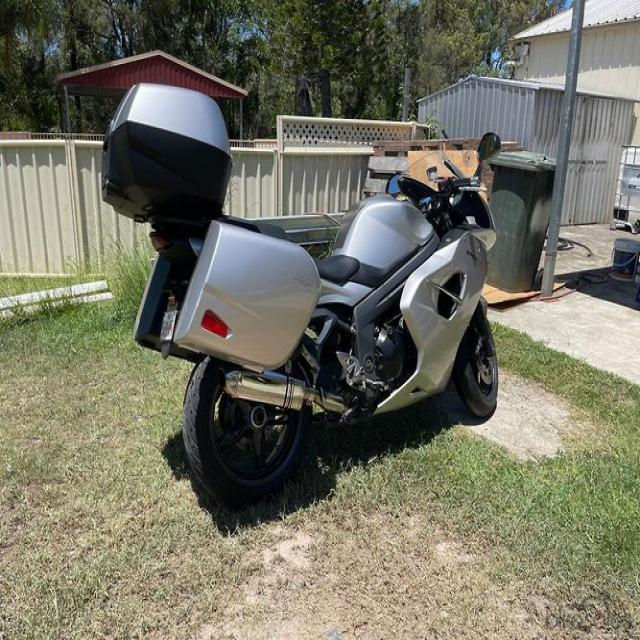Motorcycle: (102, 87, 500, 504)
